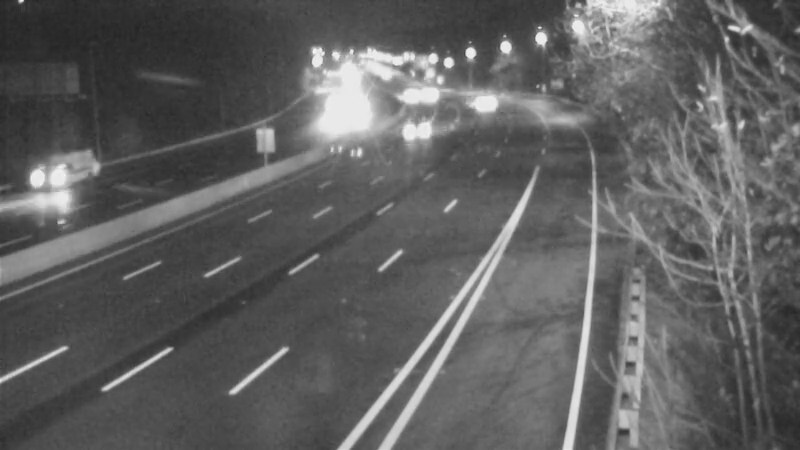vehicle: (18, 138, 98, 218), (402, 69, 452, 119), (382, 68, 432, 118), (454, 80, 504, 130), (390, 110, 440, 160), (300, 104, 350, 154)
